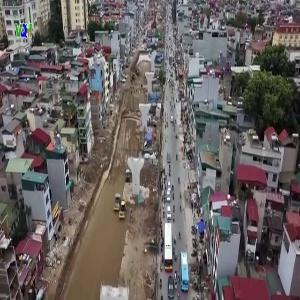drone: (136, 30, 174, 68)
